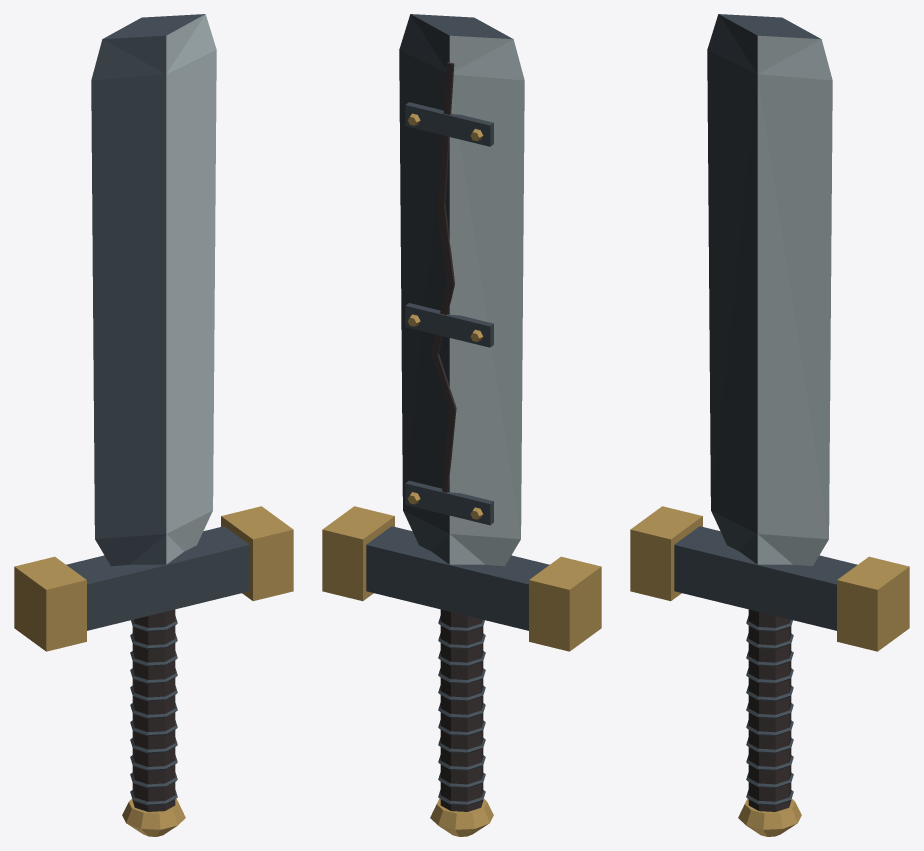
The model's file is Gatebreaker.fbx.
3 views of the same model, side by side, from view 1: azimuth 30°, elevation 25°; view 2: azimuth 150°, elevation 25°; view 3: azimuth 330°, elevation 25° (orthographic).
Parts seen in each view (by area): view 1: Legendary_Gatebreaker; view 2: Legendary_Gatebreaker; view 3: Legendary_Gatebreaker.
Boxes of the visible parts, <box> form: Legendary_Gatebreaker: <box>14,14,293,836</box>; Legendary_Gatebreaker: <box>322,14,601,836</box>; Legendary_Gatebreaker: <box>630,14,909,836</box>.
Bounding box in the file's own units: 0.67 × 2.09 × 0.162.
